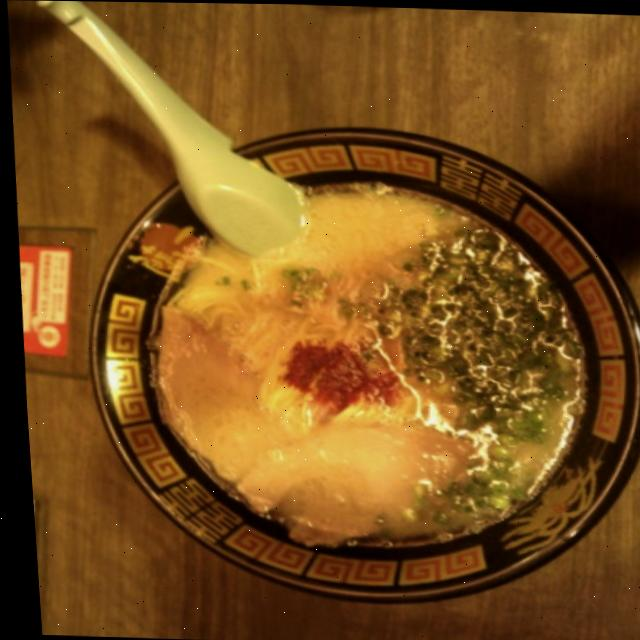面条主食: (57, 121, 640, 610)
